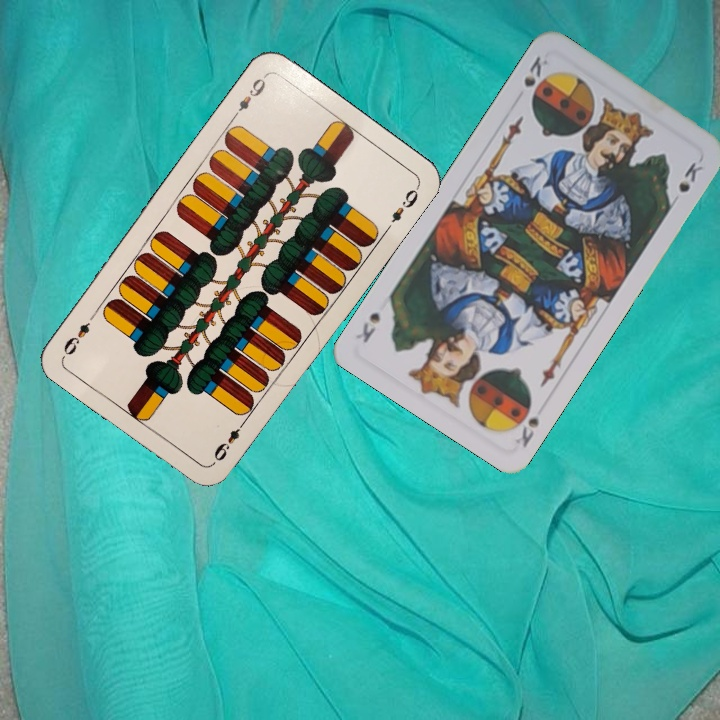E9: (228, 71, 269, 122), (209, 416, 249, 464)
SK: (519, 51, 551, 90), (510, 413, 542, 450)
